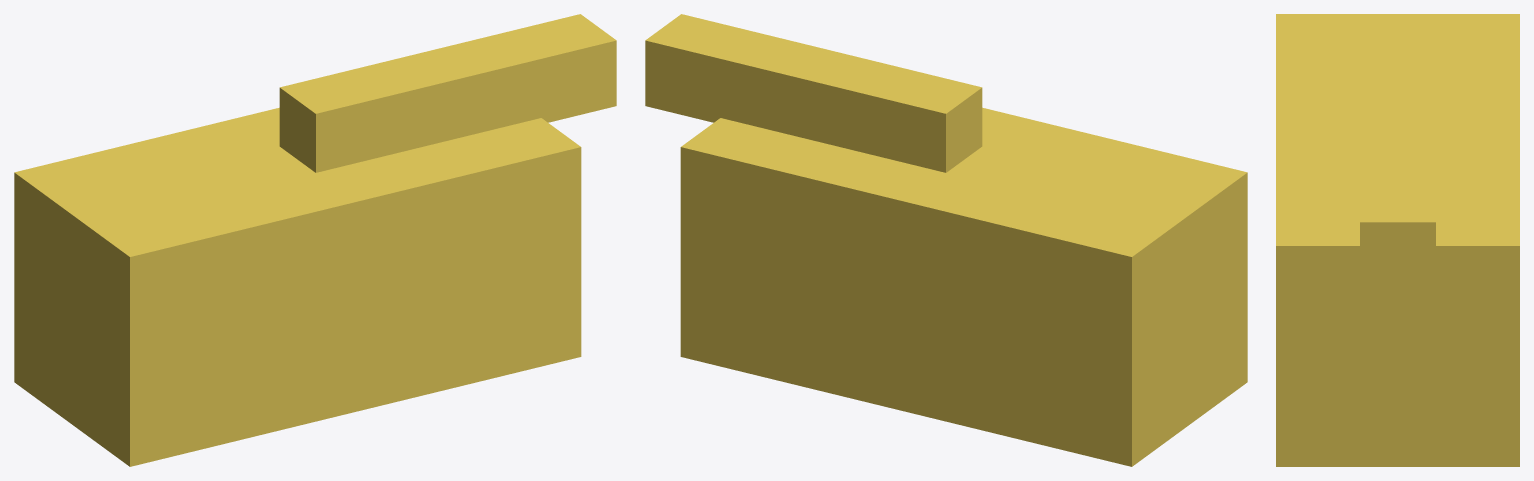
The model's file is reach_stacker.glb.
The picture shows the model from 3 angles, left to right: view 1: azimuth 30°, elevation 25°; view 2: azimuth 150°, elevation 25°; view 3: azimuth 270°, elevation 25°; orthographic projection. The views are drawn at different scales.
Visible parts, largest first — view 1: stackbody, stackarm; view 2: stackbody, stackarm; view 3: stackbody, stackarm.
Part boxes in pixels (left/top/right/bottom): stackbody: left=14, top=107, right=581, bottom=466; stackarm: left=279, top=14, right=616, bottom=172; stackbody: left=680, top=107, right=1247, bottom=466; stackarm: left=645, top=14, right=982, bottom=172; stackbody: left=1276, top=14, right=1519, bottom=466; stackarm: left=1360, top=67, right=1435, bottom=291.
Bounding box in the file's own units: 4.2 × 2.05 × 1.6.
